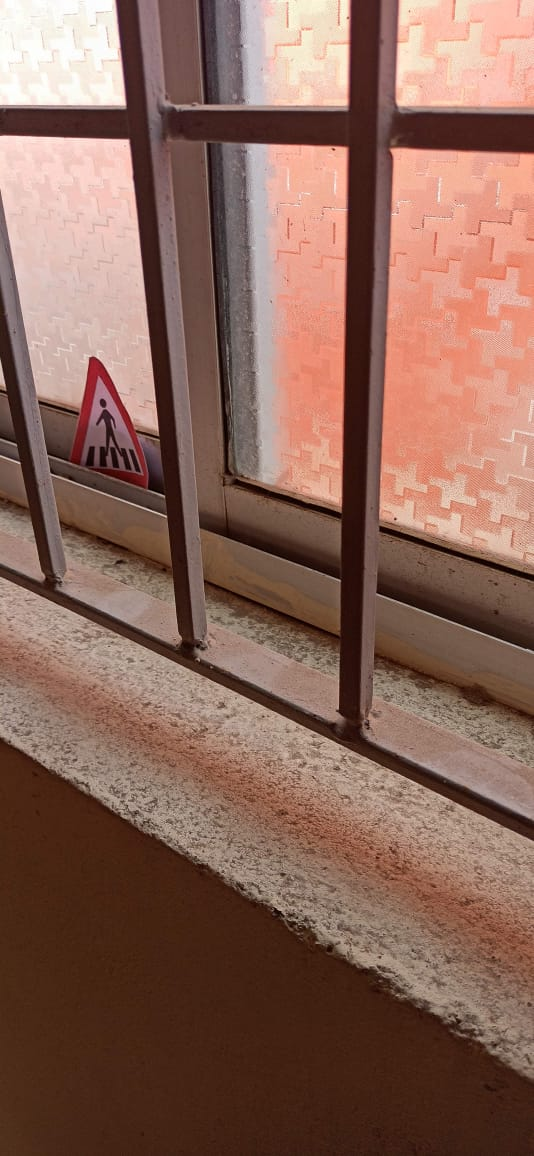PEDESTRIAN CROSSING: (43, 344, 167, 501)
